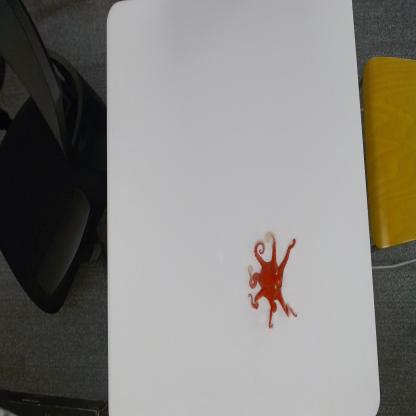Octopus: (246, 228, 300, 330)
